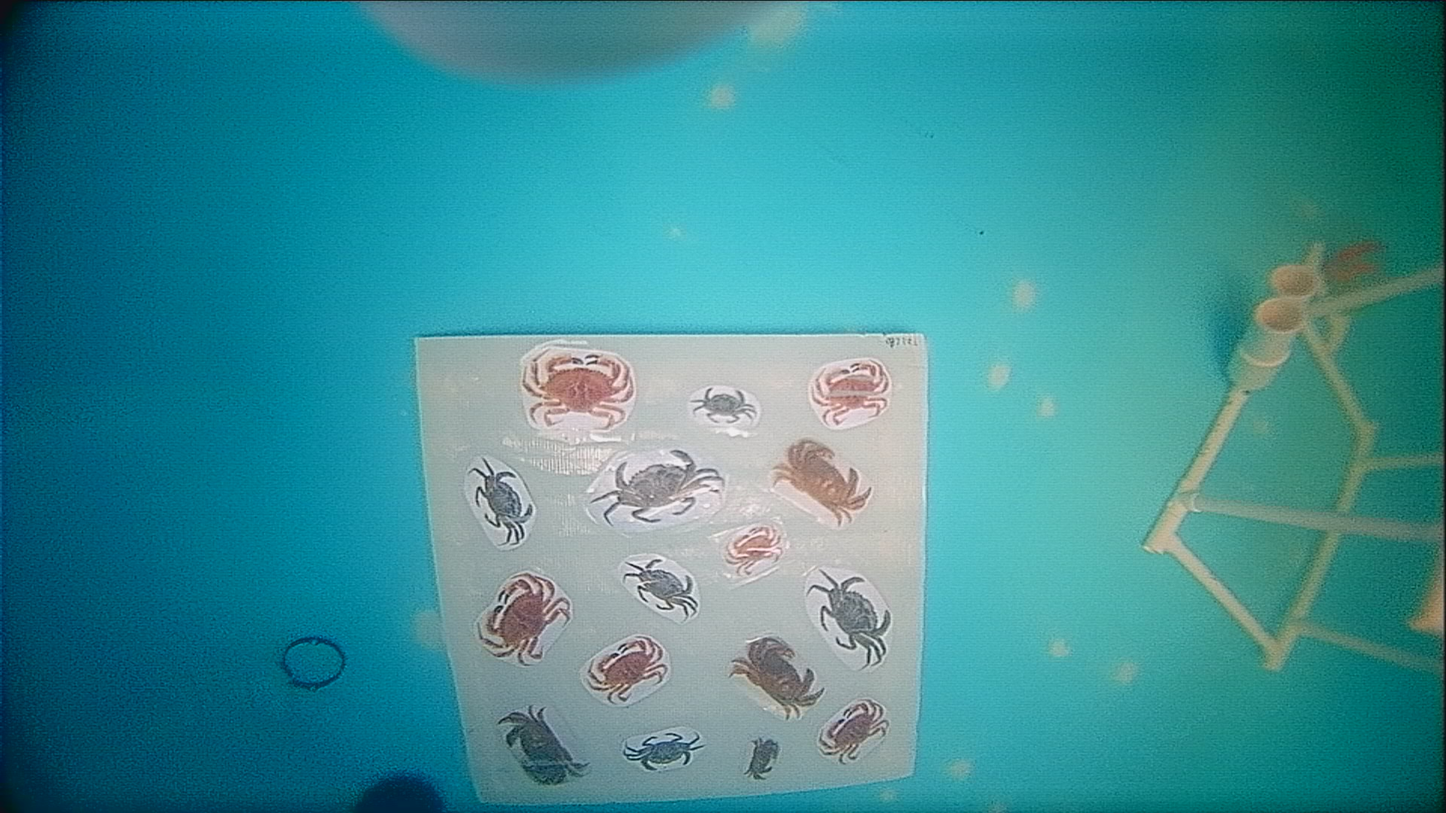GreenCrab: (590, 449, 724, 525), (809, 571, 889, 665), (471, 459, 533, 543), (623, 558, 697, 618), (621, 726, 706, 771), (691, 388, 756, 419)
